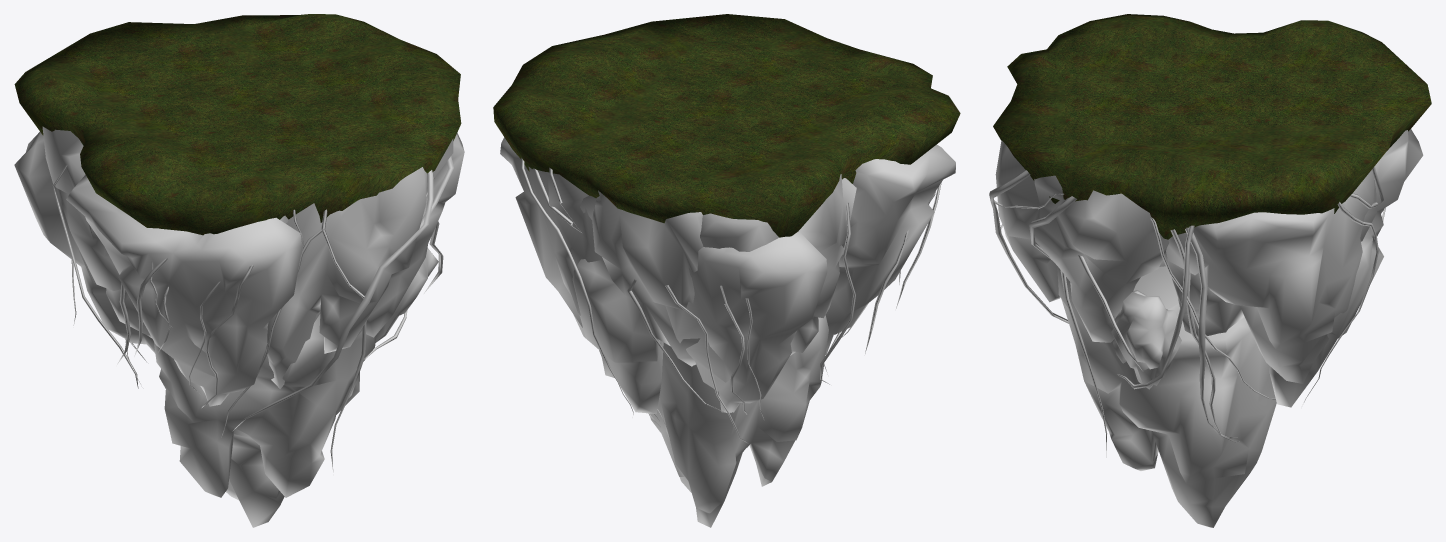
File: QYS_HS_FS_02.FBX
3 renders of one model, left to right at view 1: azimuth 30°, elevation 25°; view 2: azimuth 150°, elevation 25°; view 3: azimuth 270°, elevation 25°, orthographic.
Visible parts, largest first — view 1: QYS_HS_FS_02, QYS_HS_FS_02_01; view 2: QYS_HS_FS_02, QYS_HS_FS_02_01; view 3: QYS_HS_FS_02, QYS_HS_FS_02_01.
Boxes of the visible parts, x1,y1,x2,y2 form: QYS_HS_FS_02: [14, 126, 464, 527]; QYS_HS_FS_02_01: [14, 14, 461, 235]; QYS_HS_FS_02: [500, 137, 955, 527]; QYS_HS_FS_02_01: [493, 14, 960, 237]; QYS_HS_FS_02: [989, 129, 1423, 527]; QYS_HS_FS_02_01: [993, 14, 1431, 239].
Size of the model in its own units: 3945 by 4317 by 3991.
